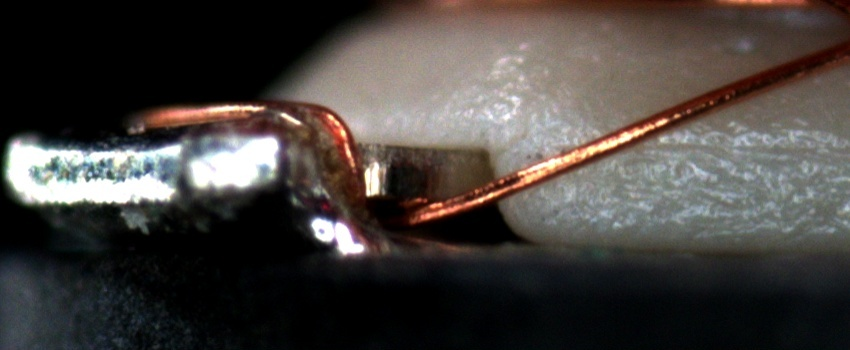DL: (561, 118, 850, 182)
TE: (125, 93, 363, 177)
